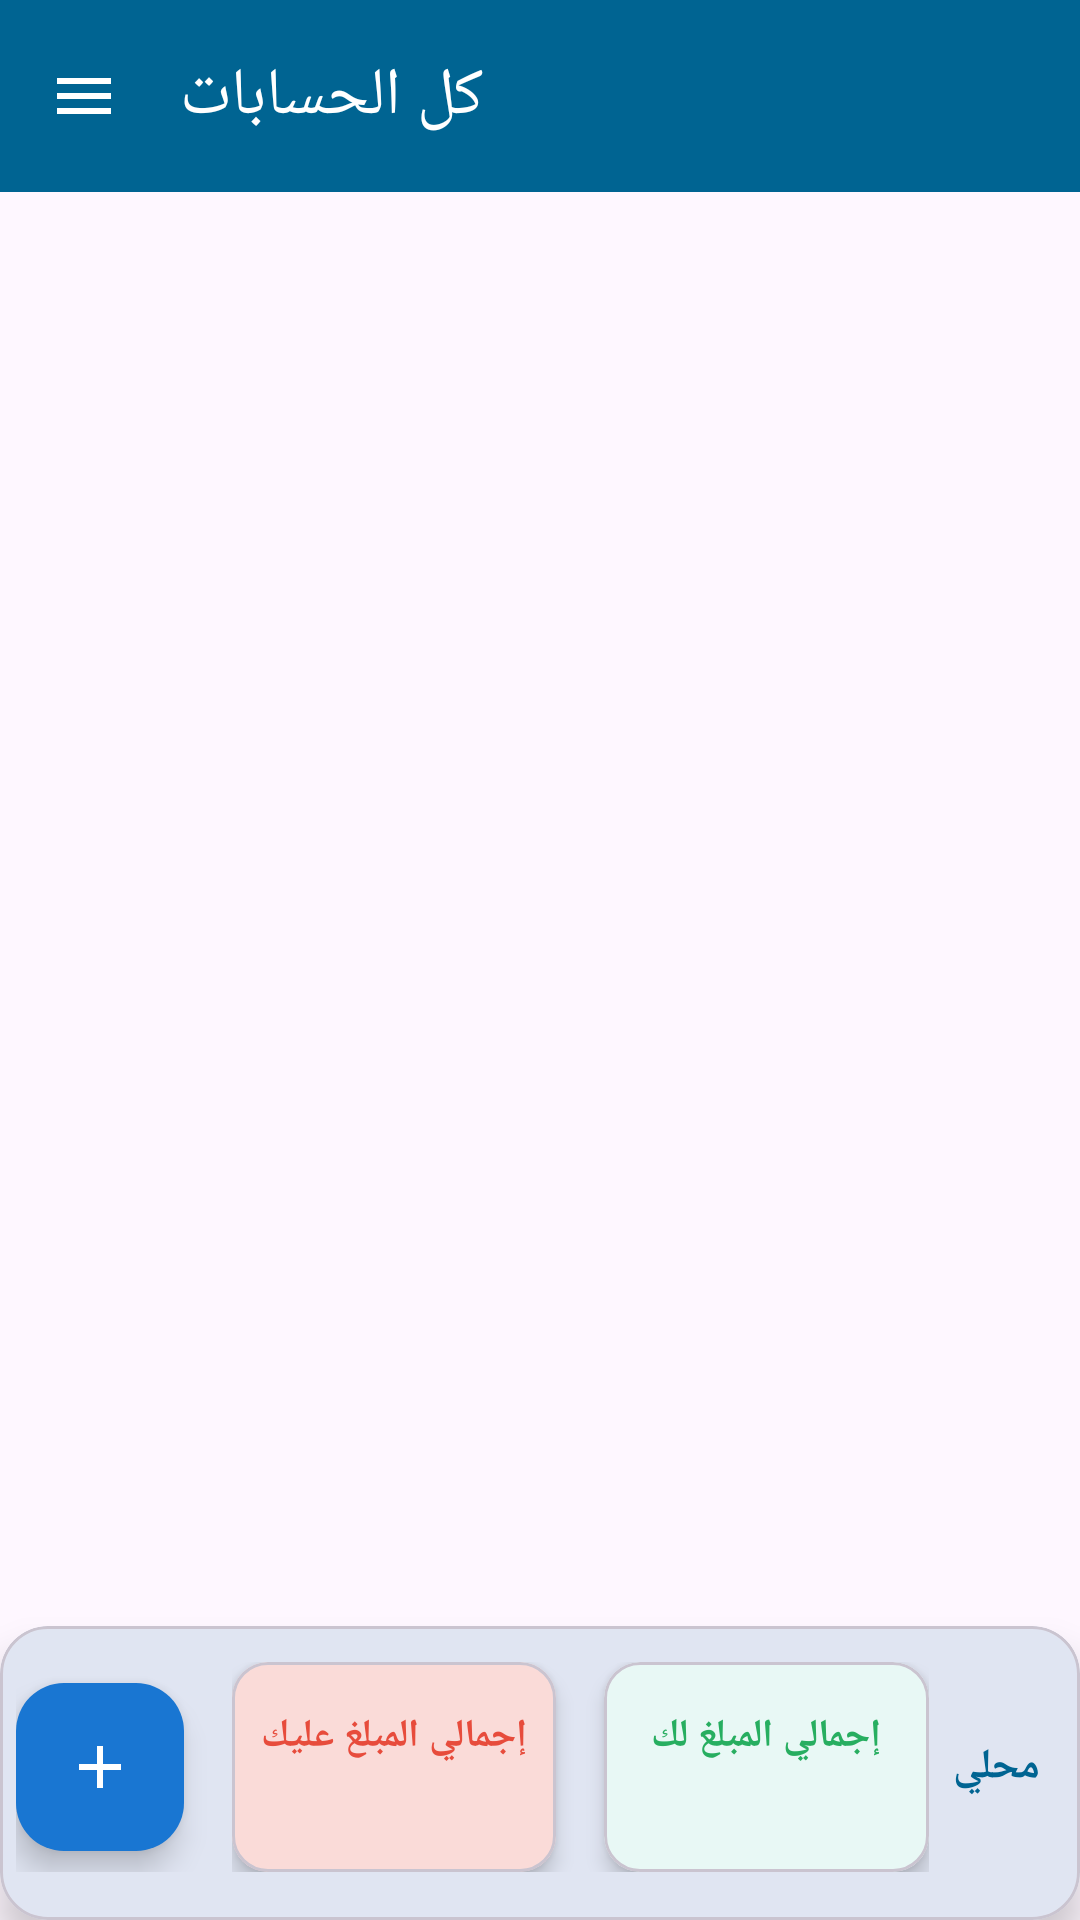

Point at icon controls on the screen. Image size 1080*1920, points as (x,y).
إضافة عملية: (100,1767)
